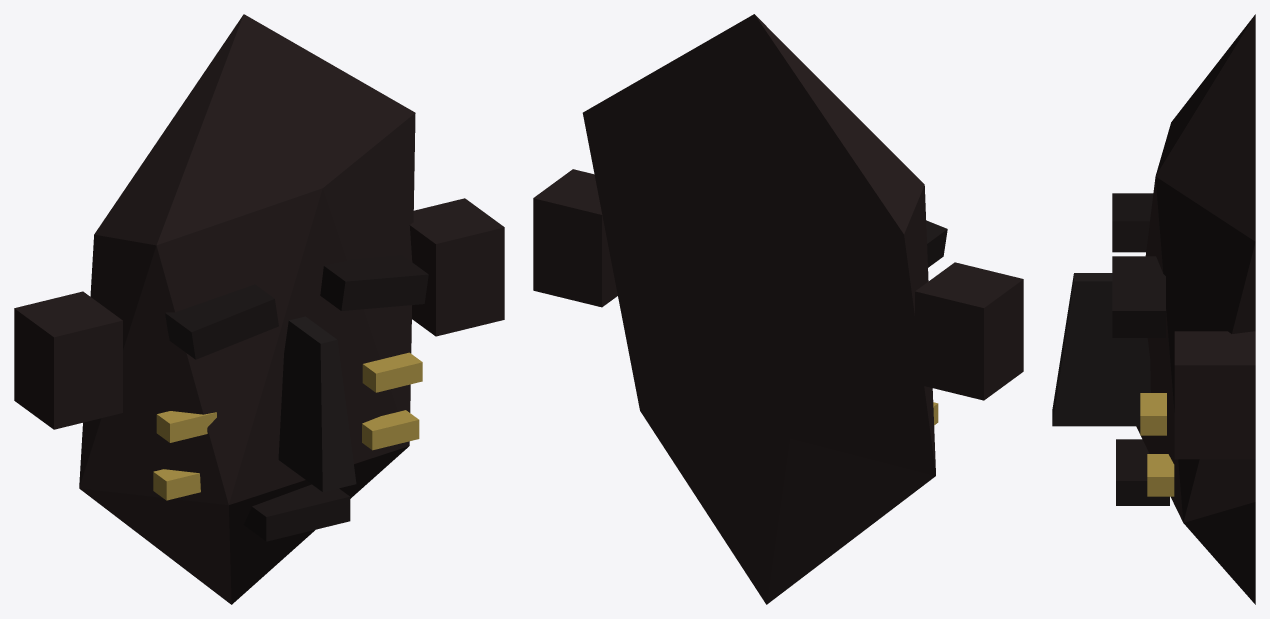
The model's file is wall-mask-25.glb.
3 views of the same model, side by side, from view 1: azimuth 30°, elevation 25°; view 2: azimuth 150°, elevation 25°; view 3: azimuth 270°, elevation 25° (orthographic).
Visible parts, largest first — view 1: wall_mask_25; view 2: wall_mask_25; view 3: wall_mask_25.
Part boxes in pixels (x1=…): wall_mask_25: x1=14, y1=14, x2=504, y2=604; wall_mask_25: x1=533, y1=14, x2=1023, y2=604; wall_mask_25: x1=1052, y1=14, x2=1255, y2=604.
Size of the model in its own units: 0.1962 by 0.2445 by 0.0754.
